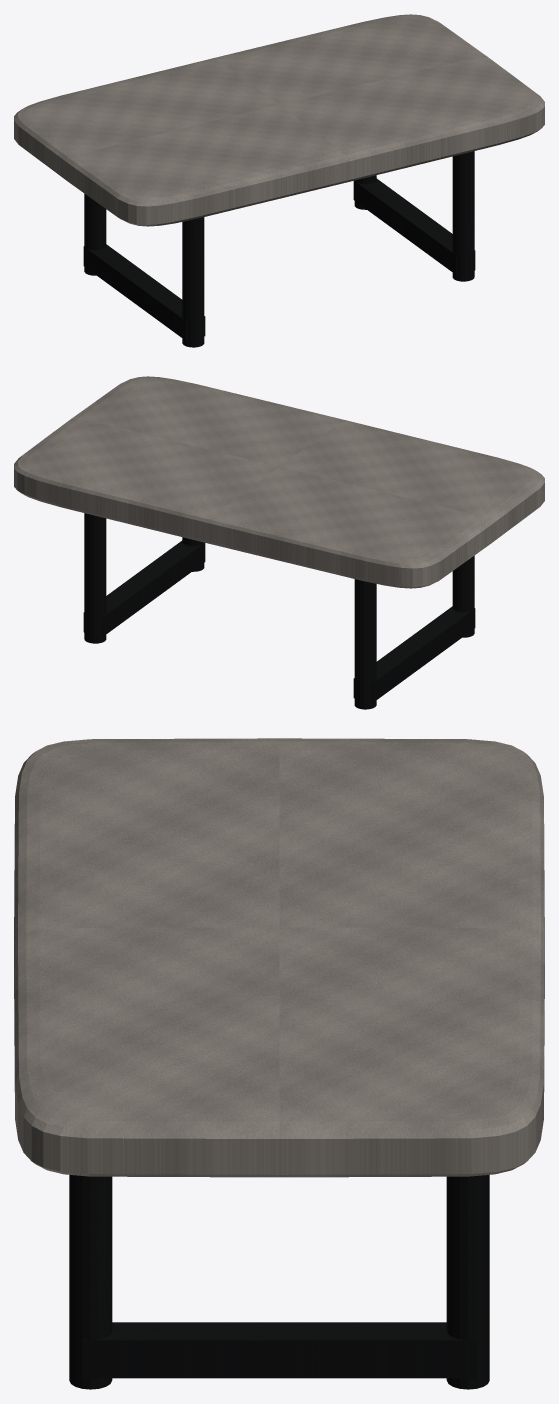
File: coffee-table_lod1.glb
3 views of the same model, one above another, from view 1: azimuth 30°, elevation 25°; view 2: azimuth 150°, elevation 25°; view 3: azimuth 270°, elevation 25° (orthographic). The views are drawn at different scales.
Visible parts, largest first — view 1: top, rail_1, rail_2, leg_1_b, leg_2_b, leg_1_a; view 2: top, rail_1, rail_2, leg_1_a, leg_2_a, leg_1_b; view 3: top, rail_2, leg_2_b, leg_2_a.
Boxes of the visible parts, x1=… form: top: x1=14, y1=14, x2=544, y2=226; rail_1: x1=83, y1=244, x2=205, y2=340; rail_2: x1=353, y1=178, x2=475, y2=274; leg_1_b: x1=182, y1=217, x2=204, y2=347; leg_2_b: x1=452, y1=151, x2=474, y2=281; leg_1_a: x1=84, y1=193, x2=106, y2=275; top: x1=14, y1=376, x2=544, y2=588; rail_1: x1=353, y1=606, x2=475, y2=702; rail_2: x1=83, y1=540, x2=205, y2=636; leg_1_a: x1=354, y1=579, x2=376, y2=709; leg_2_a: x1=84, y1=513, x2=106, y2=643; leg_1_b: x1=452, y1=555, x2=474, y2=637; top: x1=14, y1=738, x2=544, y2=1177; rail_2: x1=82, y1=1322, x2=476, y2=1378; leg_2_b: x1=69, y1=1175, x2=112, y2=1389; leg_2_a: x1=446, y1=1175, x2=489, y2=1389.
Size of the model in its own units: 1.1 by 0.42 by 0.62.
Materials: 2 (2 with a texture image).
